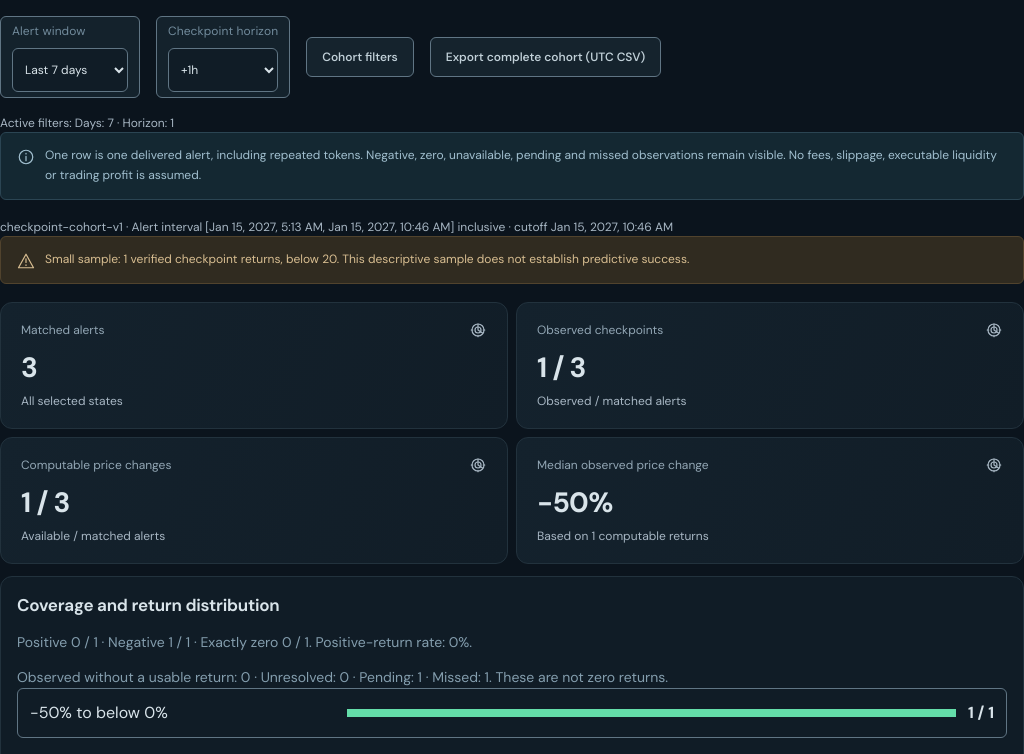
Scenario: opens filters with focus isolation, resets pagination, preserves context and returns focus
Expected: the text "Computable price changes" is shown, [21, 457, 171, 473]
Click the button "Cohort filters" at (360, 57), box [306, 37, 414, 77]
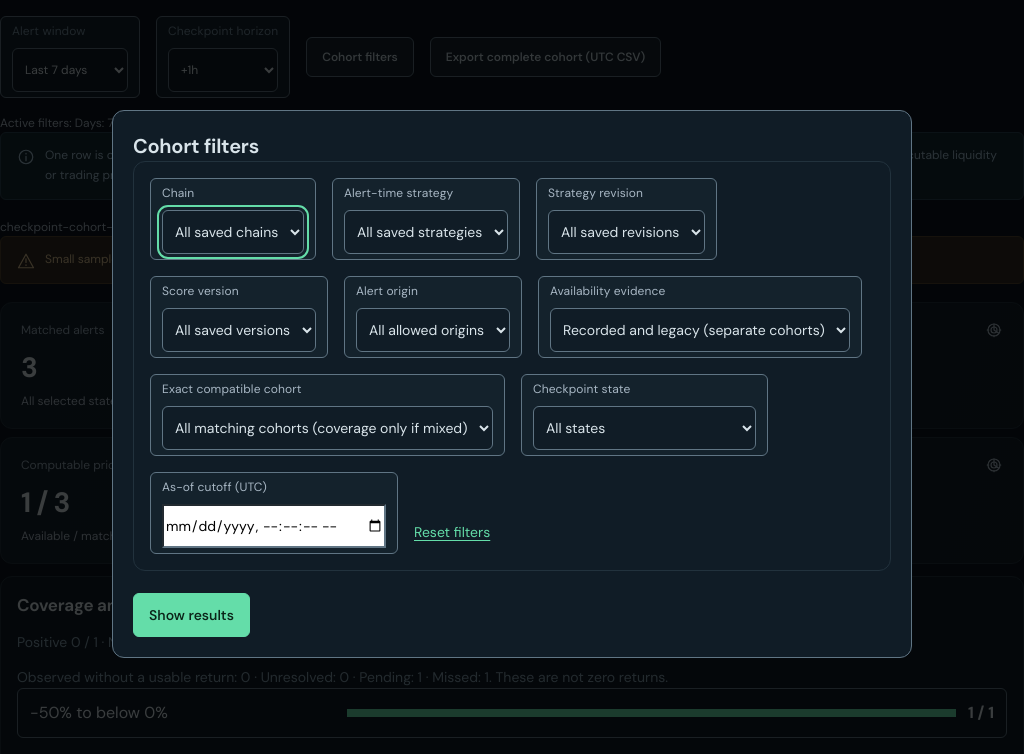
Result: the dialog is shown at [112, 110, 912, 658]
Select "Balanced" in the dropdown labelled "Alert-time strategy" at (426, 232), box [344, 210, 508, 254]
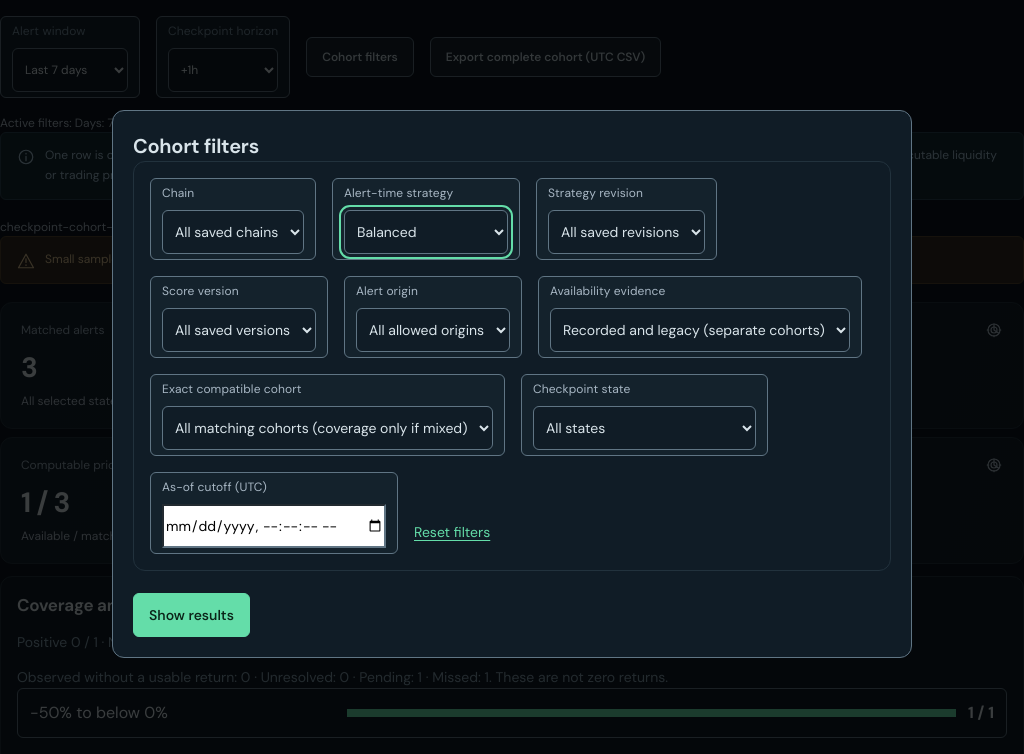
Press Escape
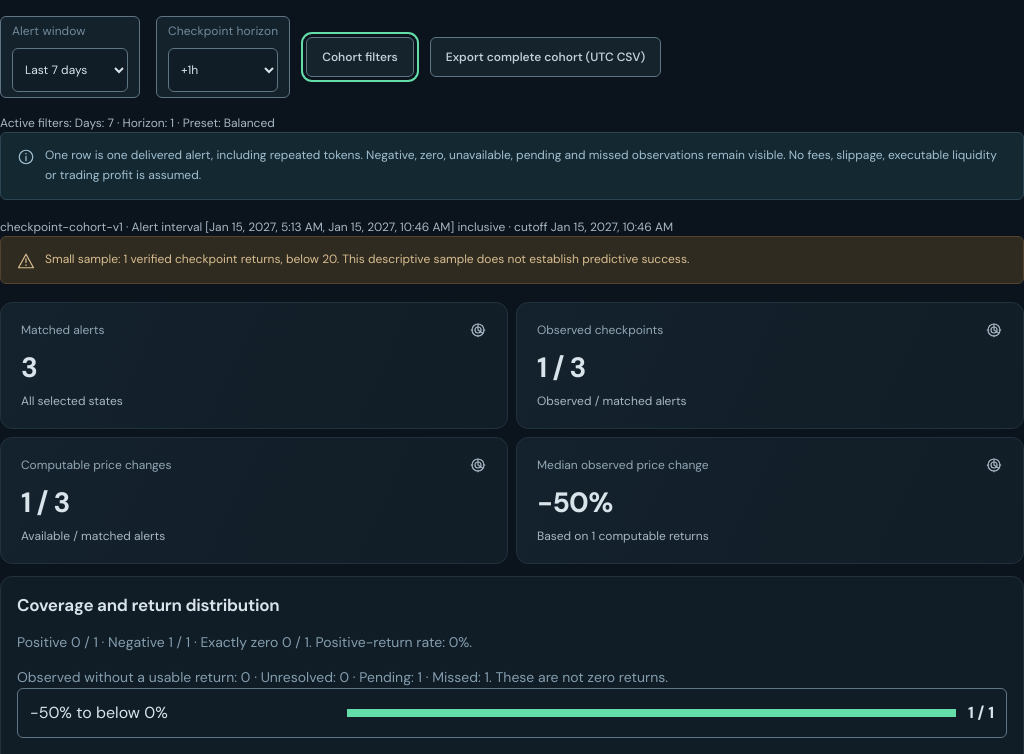
Result: the dialog is gone
